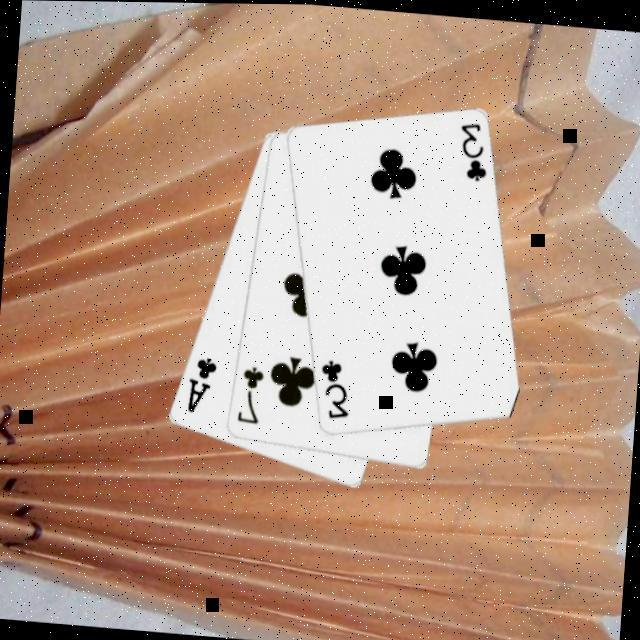3C: (316, 356, 356, 422), (455, 119, 494, 185)
7C: (234, 362, 268, 428)
AC: (184, 353, 221, 417)
